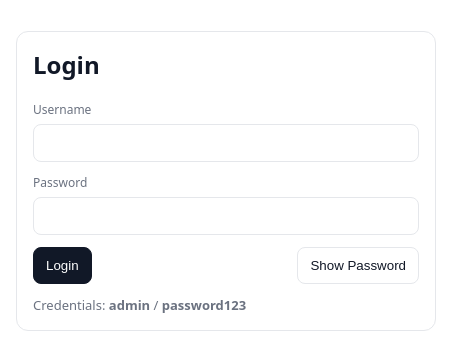
LoginPage (BDD) › Given incorrect password, When logging in, Then “Try again.” is shown
In the field labelled "Username": x=226, y=143 [33,124,419,162], type "admin"
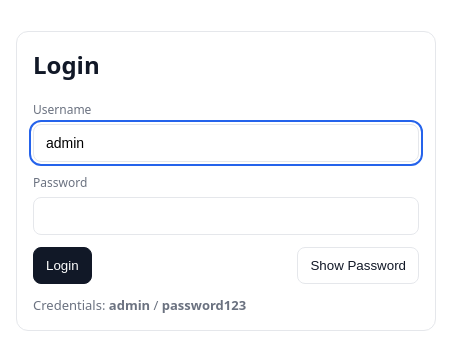
In the password field labelled "Password": x=226, y=216 [33,197,419,235], type "wrongpass"
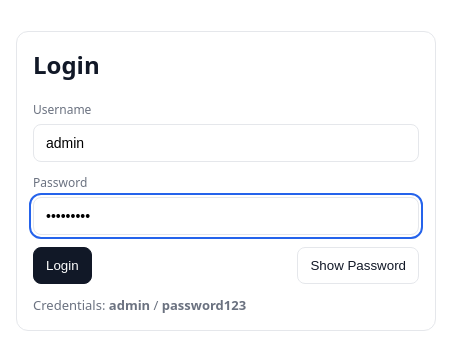
Click the button "Login": x=62, y=266 [33,247,92,284]
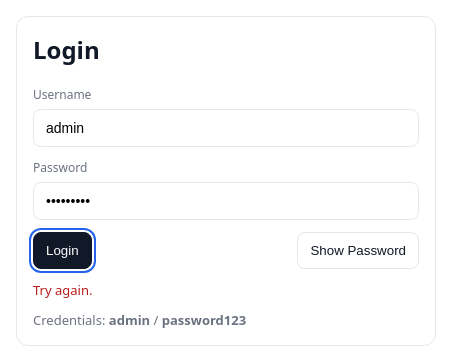
Now the text "Try again." is shown, box [33,281,92,299]
